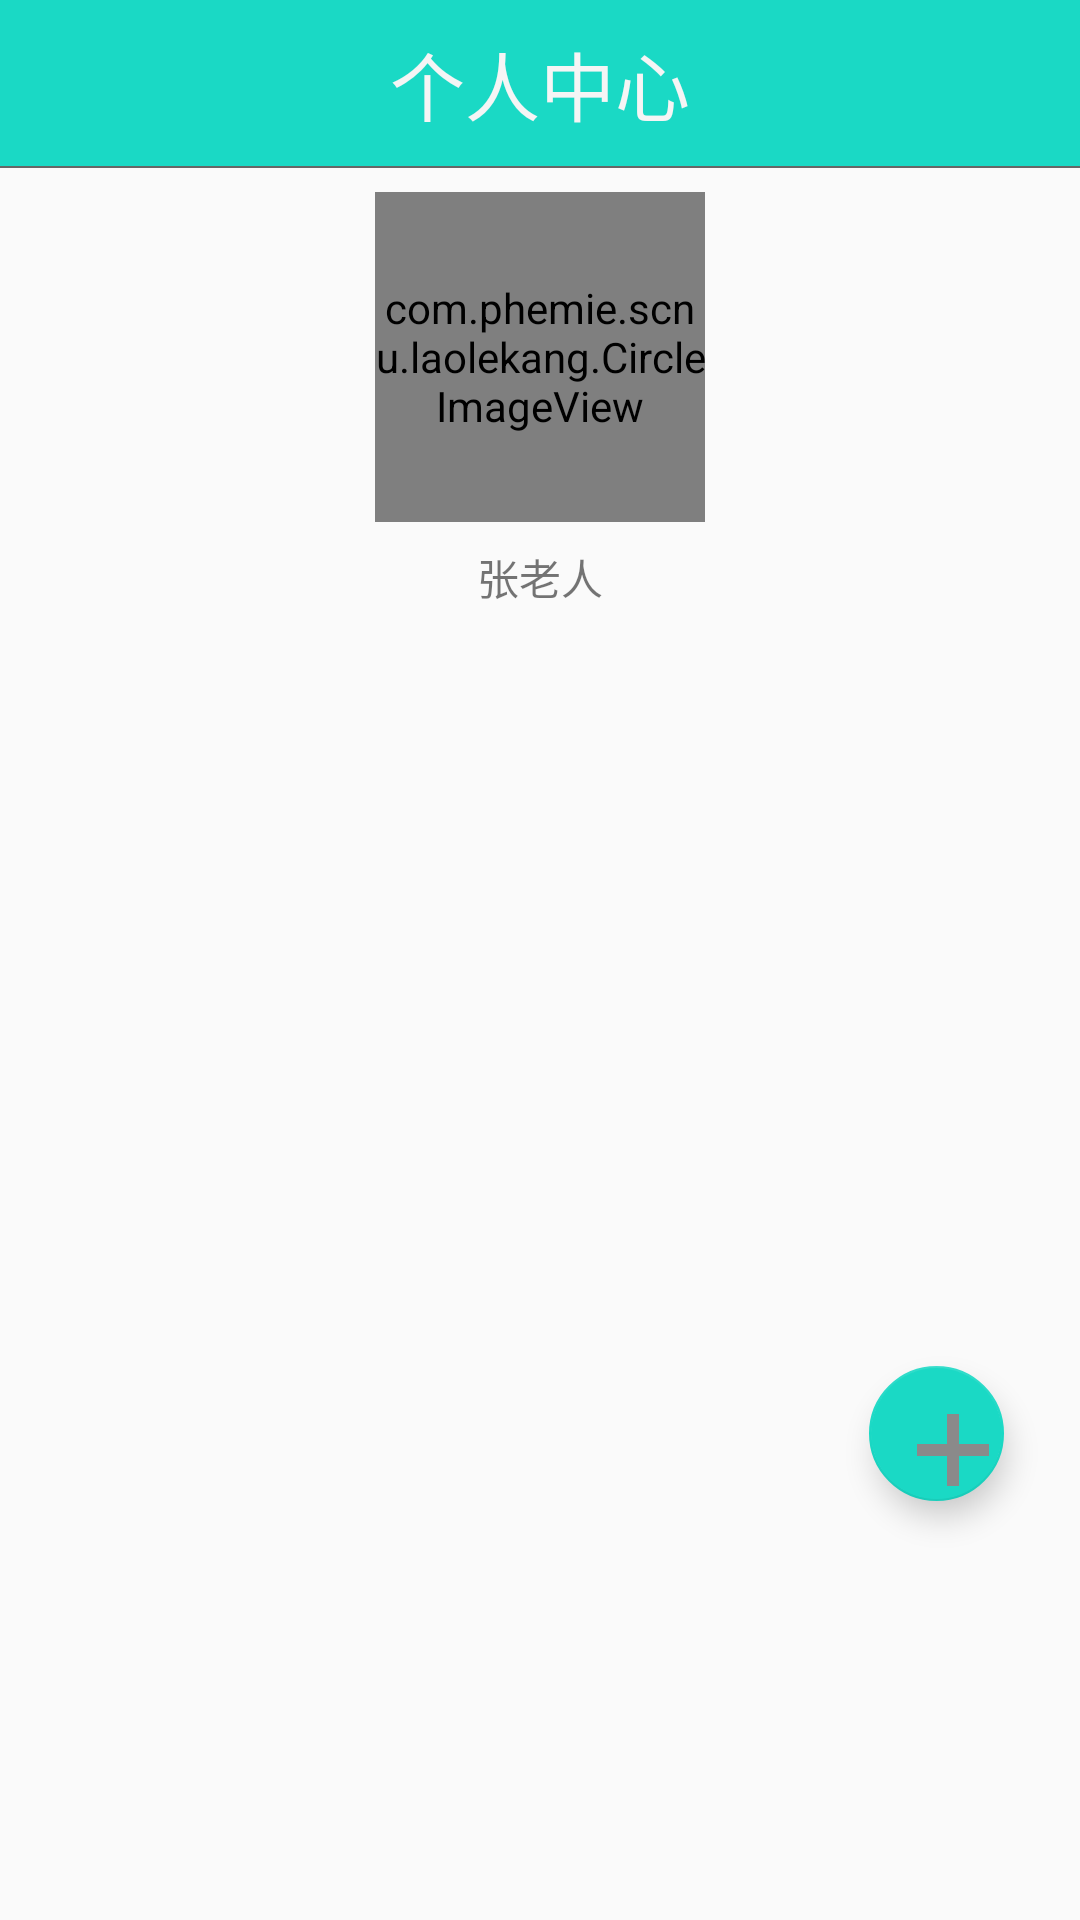

Named icons in this screenshot (1080 × 1920) and their centers, (x,y):
float add: (936,1433)
